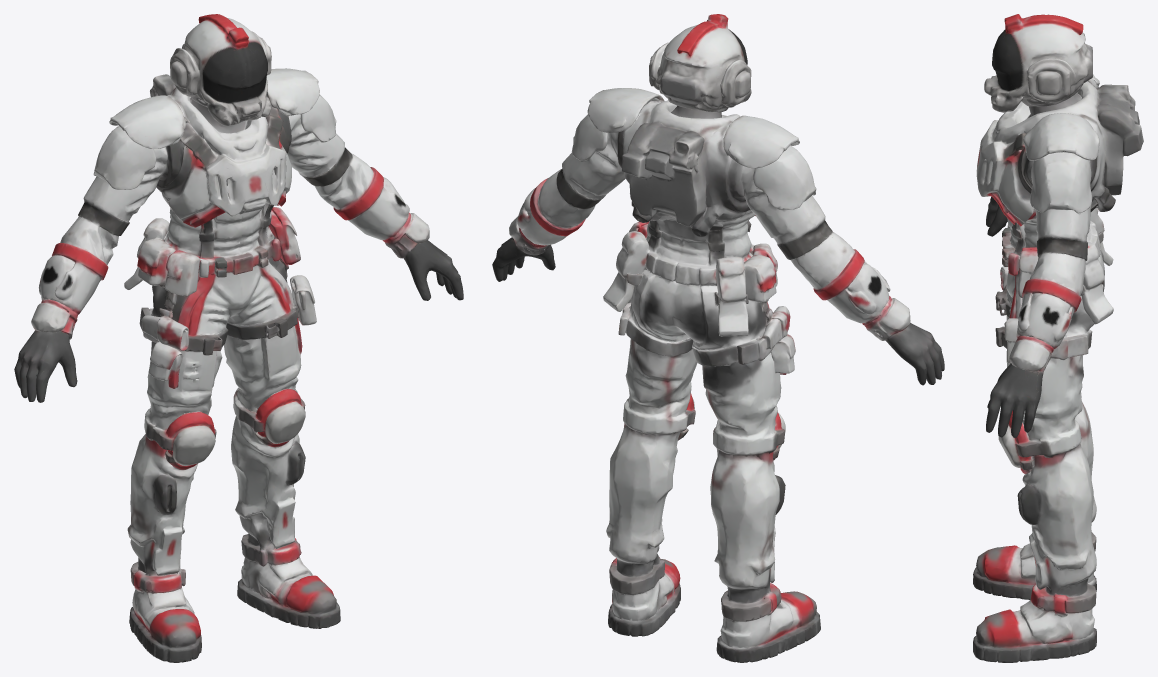
The model's file is lifeline-trellis2-11.glb.
The picture shows the model from 3 angles, left to right: view 1: azimuth 30°, elevation 25°; view 2: azimuth 150°, elevation 25°; view 3: azimuth 270°, elevation 25°; orthographic projection.
Visible parts, largest first — view 1: world; view 2: world; view 3: world.
Part boxes in pixels (<box>): world: <box>14,14,463,662</box>; world: <box>492,14,944,662</box>; world: <box>973,14,1143,662</box>.
Bounding box in the file's own units: 0.7534 × 0.9994 × 0.2567.
1 material, 1 textured.
